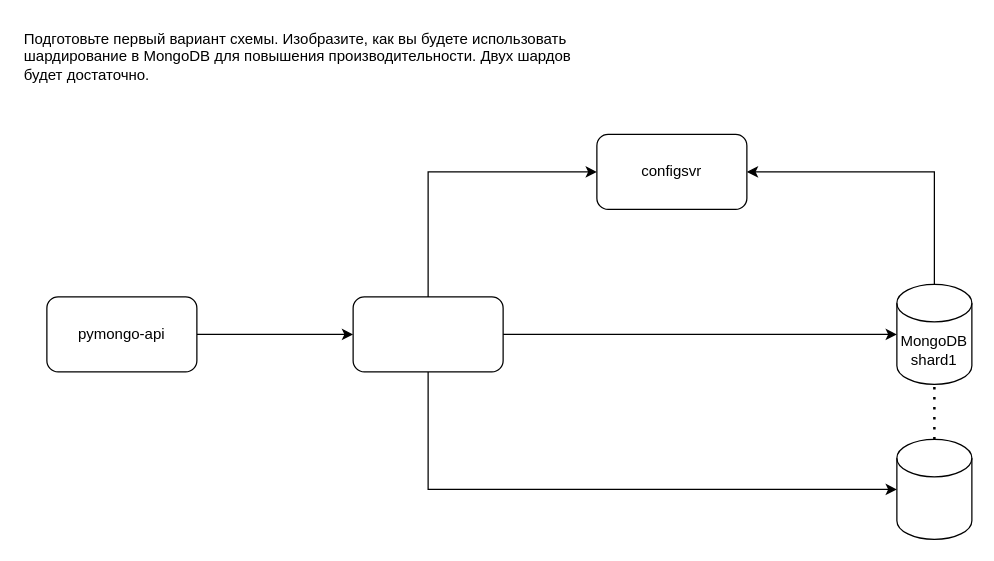
This 994x561 diagram has some shape labels left out. The shapes that lost their labels are listed below. From the top down, each one's centre as x and y in pixels, then its label:
pixel 427 334: mongos-router
pixel 934 488: MongoDB shard2
